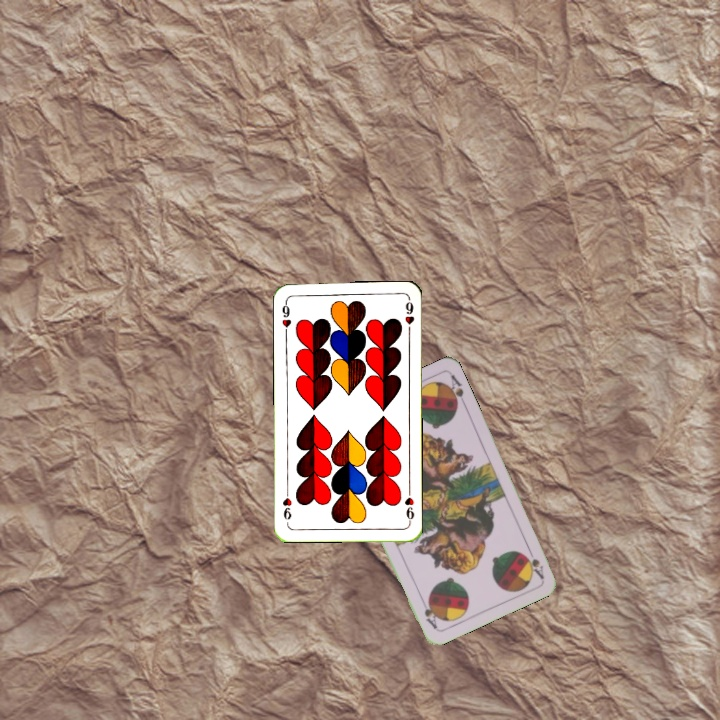H9: (400, 485, 416, 525), (278, 297, 294, 337)
SA: (521, 542, 546, 581)
